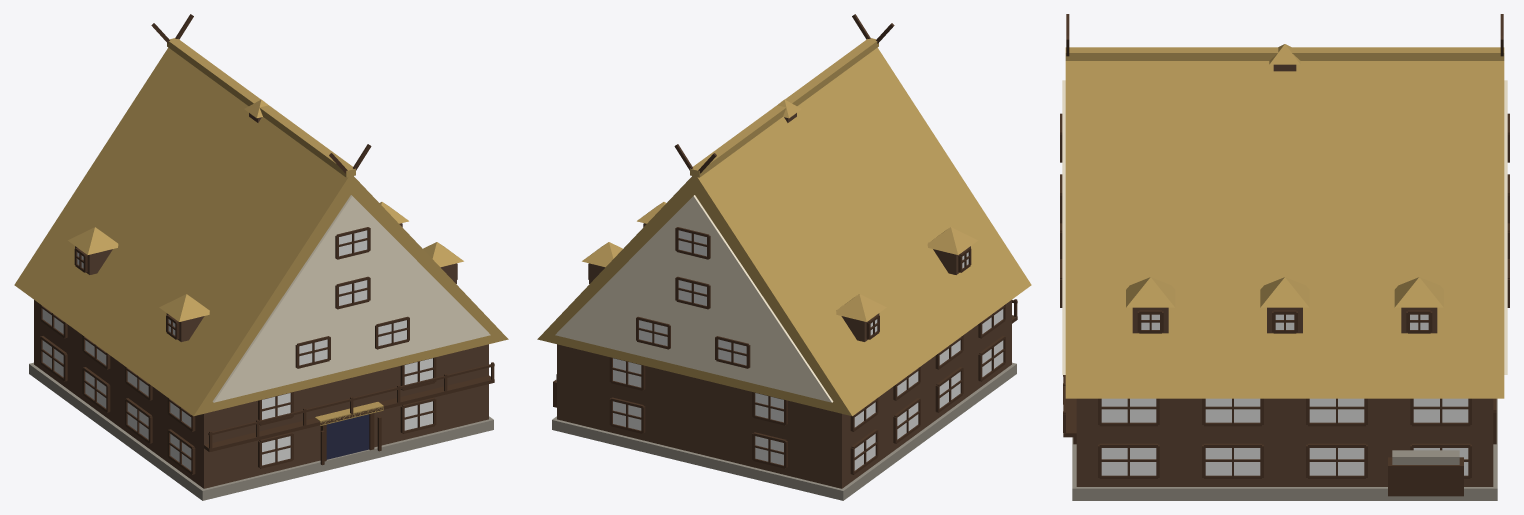
File: house-2x2-4f-gassho-a.glb
3 views of the same model, side by side, from view 1: azimuth 30°, elevation 25°; view 2: azimuth 150°, elevation 25°; view 3: azimuth 270°, elevation 25° (orthographic). The views are drawn at different scales.
Parts seen in each view (by area): view 1: house-2x2-4f-gassho-a; view 2: house-2x2-4f-gassho-a; view 3: house-2x2-4f-gassho-a.
Part boxes in pixels (x1,y1,x2,y2): house-2x2-4f-gassho-a: (14, 14, 508, 500); house-2x2-4f-gassho-a: (537, 14, 1031, 500); house-2x2-4f-gassho-a: (1060, 14, 1509, 500).
Bounding box in the file's own units: 2 × 1.92 × 2.01.
Materials: 1 (1 with a texture image).
